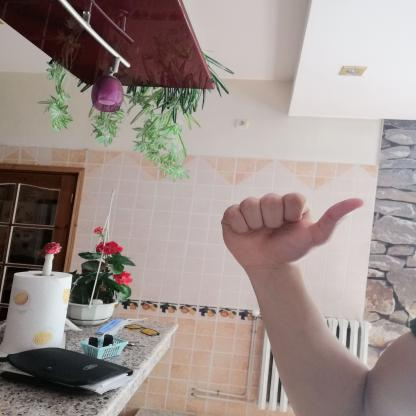DAD: (209, 185, 376, 279)
